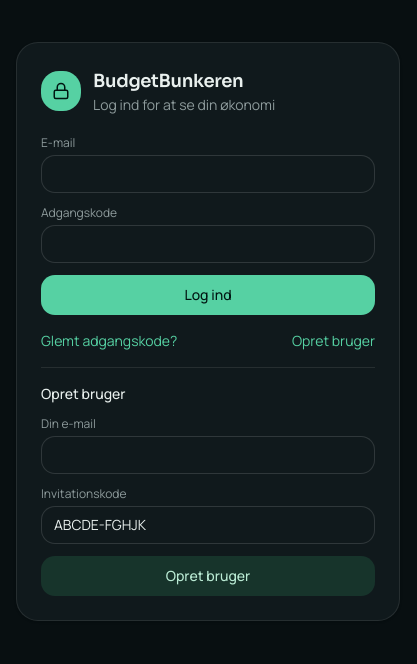
Test case: Forsiden: links fra mails og bank-login › ?invite=KODE åbner Opret bruger med koden udfyldt
Expected: the field labelled "Invitationskode" holds "ABCDE-FGHJK", top-left (41, 506), bottom-right (375, 544)
Step 1. Type "ny@example.com" into the field labelled "Din e-mail" → point(208, 454), box top-left (41, 436), bottom-right (375, 474)
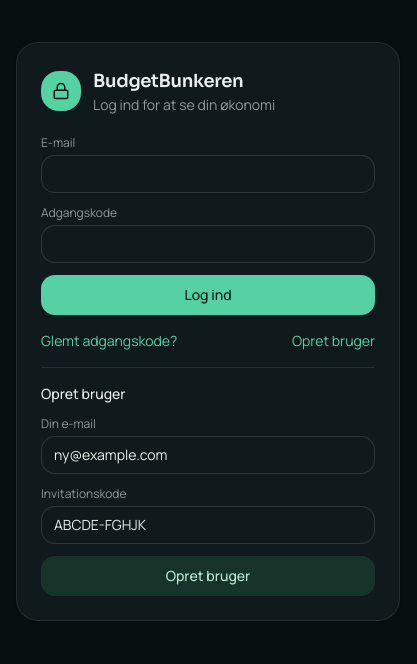
Step 2. Click the button "Opret bruger" below "Invitationskode" → point(208, 576), box top-left (41, 556), bottom-right (375, 596)
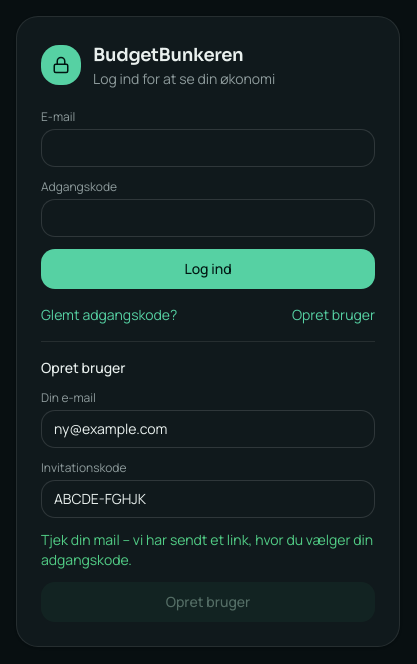
Now the text "Tjek din mail – vi har sendt et link, hvor du vælger din adgangskode." is shown, box top-left (41, 530), bottom-right (375, 570)
